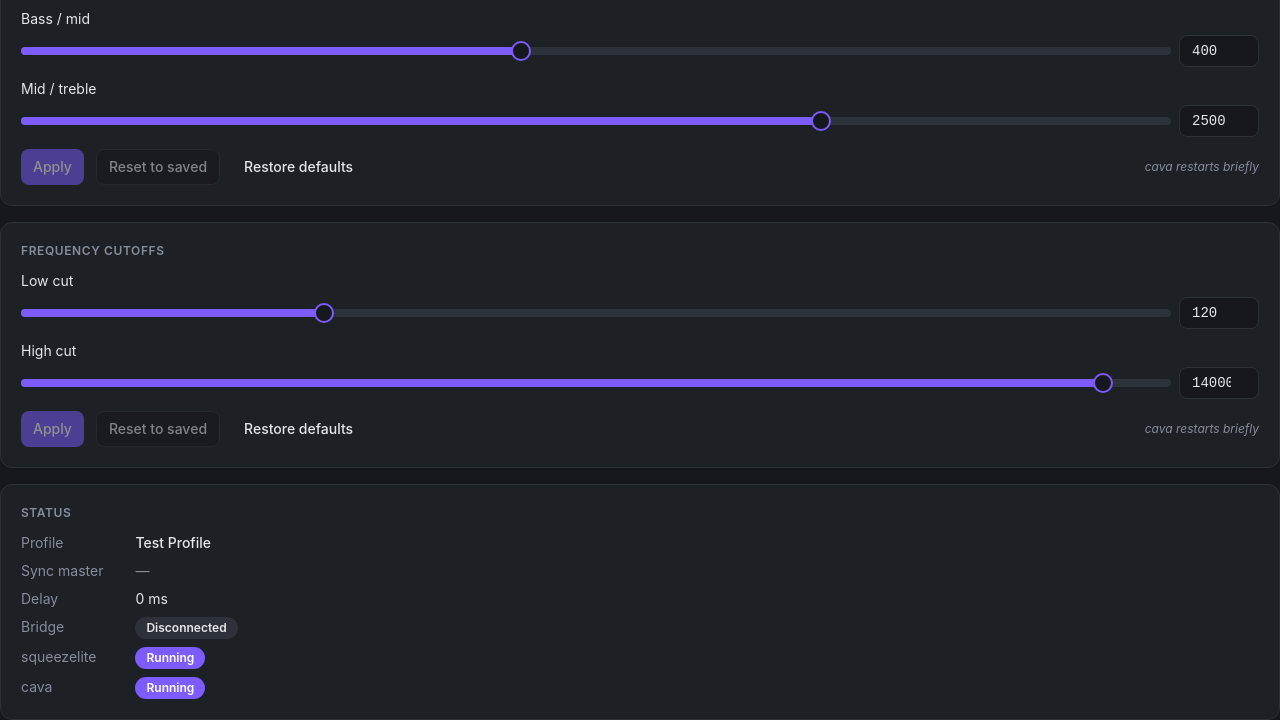
Scenario: NowPlaying — Reset to saved & Restore factory defaults › Cutoffs — Reset to saved › High cut: Reset goes to APPLIED value, not factory default
(page scrolled)
Replace the text in the number field with test id "high-cut-hz" with "8000" at (1219,383), box [1179,367,1259,399]
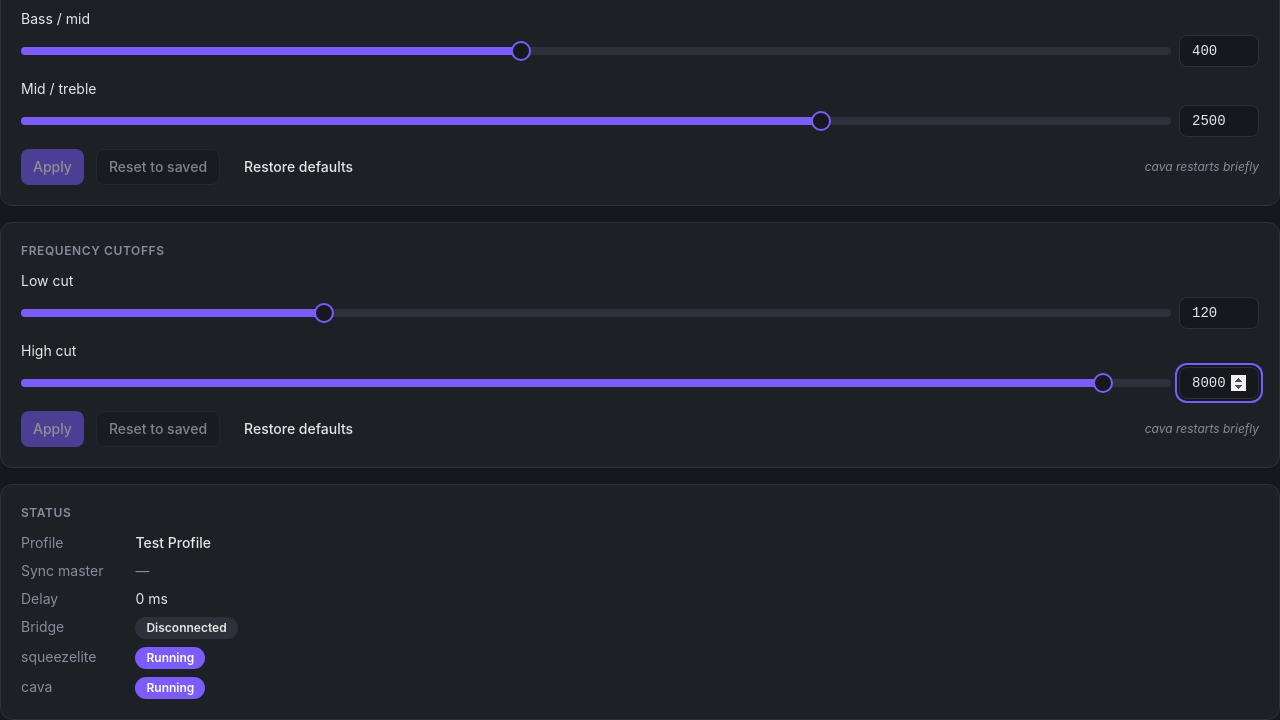
Press Enter
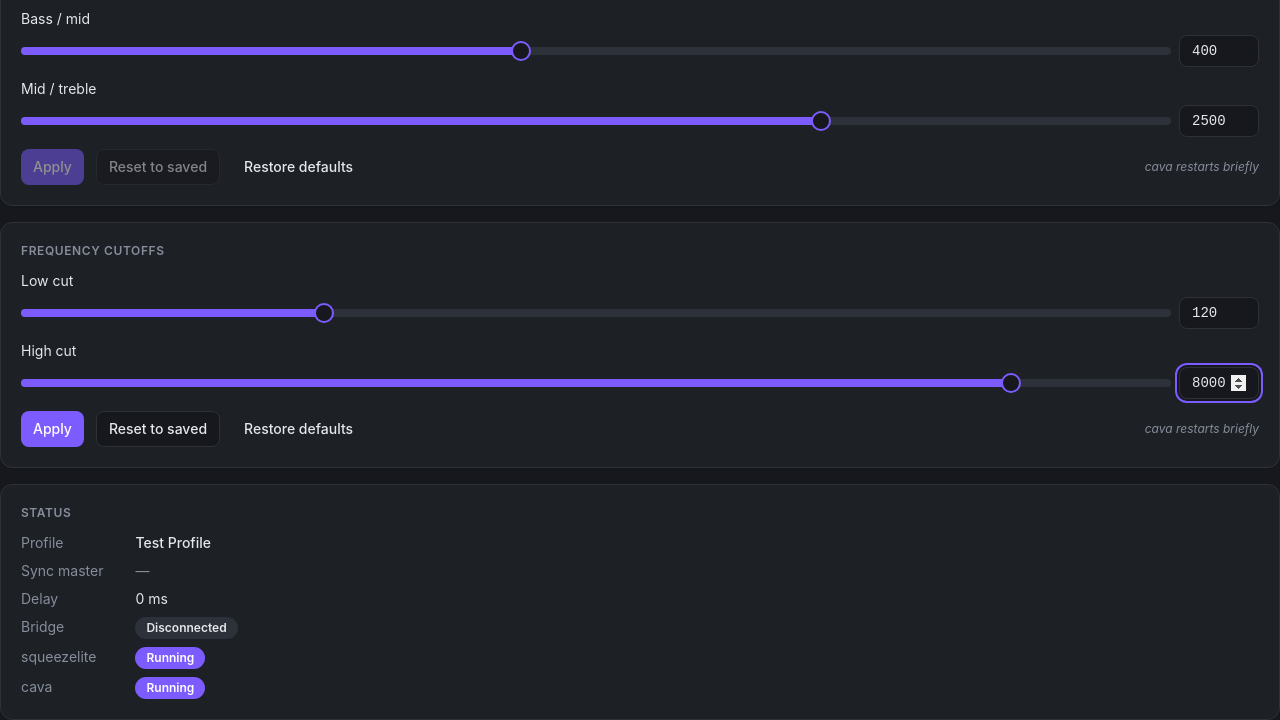
Click the button with test id "reset-cutoffs" at (158,429), box [96,411,220,447]
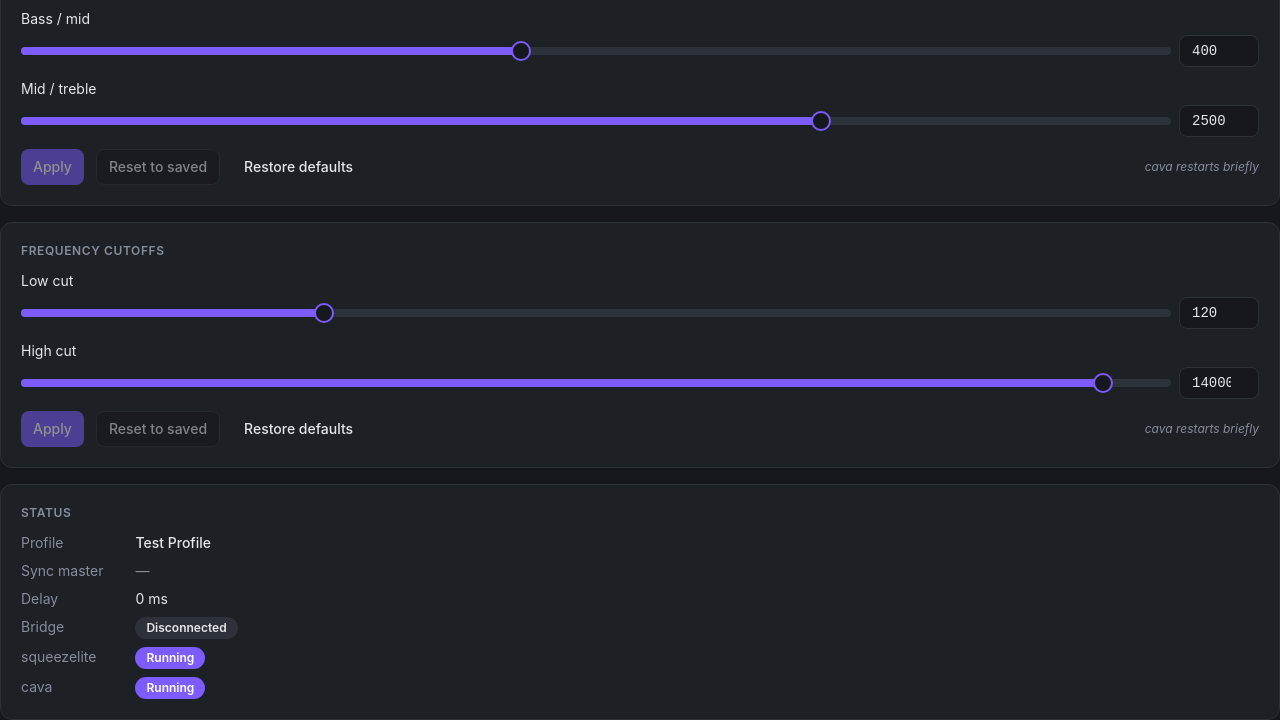
Result: the number field with test id "high-cut-hz" holds "14000" at [1179,367,1259,399]
Result: the number field with test id "high-cut-hz" does not hold "12000" at [1179,367,1259,399]
